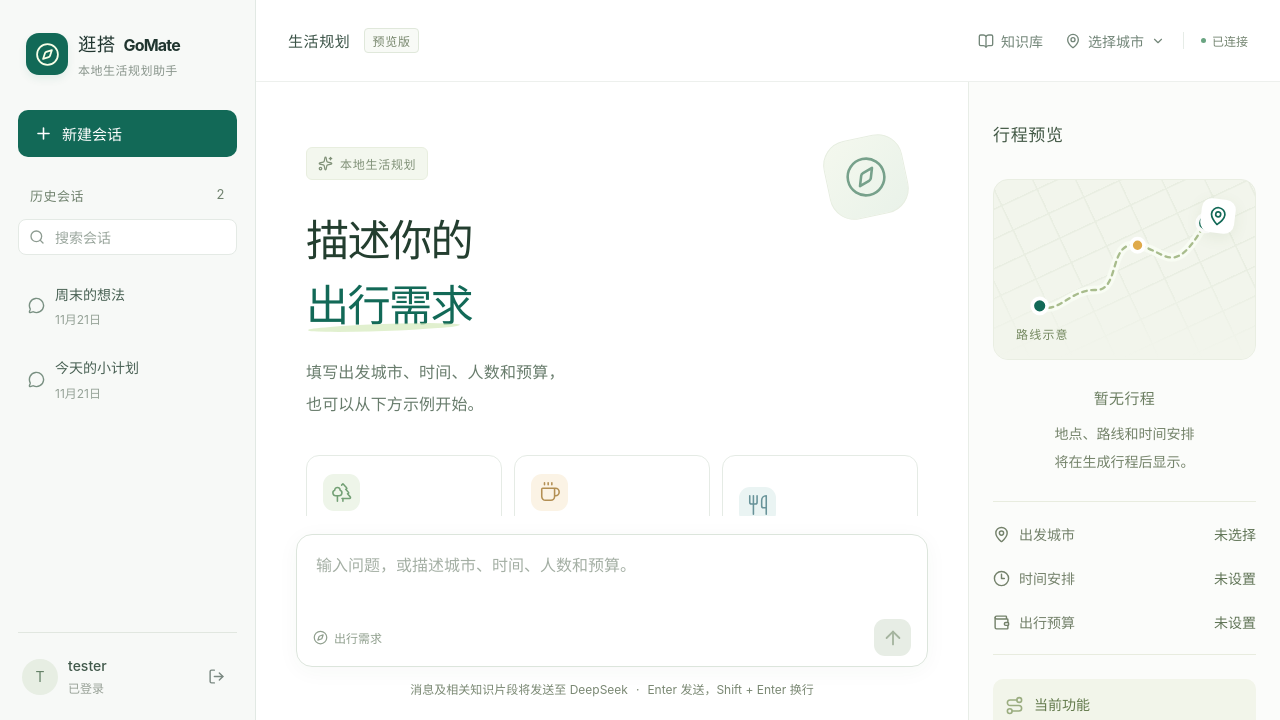
Scenario: GoMate workspace › does not display a late response from the previous conversation
Click the button with aria-label "打开会话：周末的想法": [114, 306] box 21,273 -> 208,338
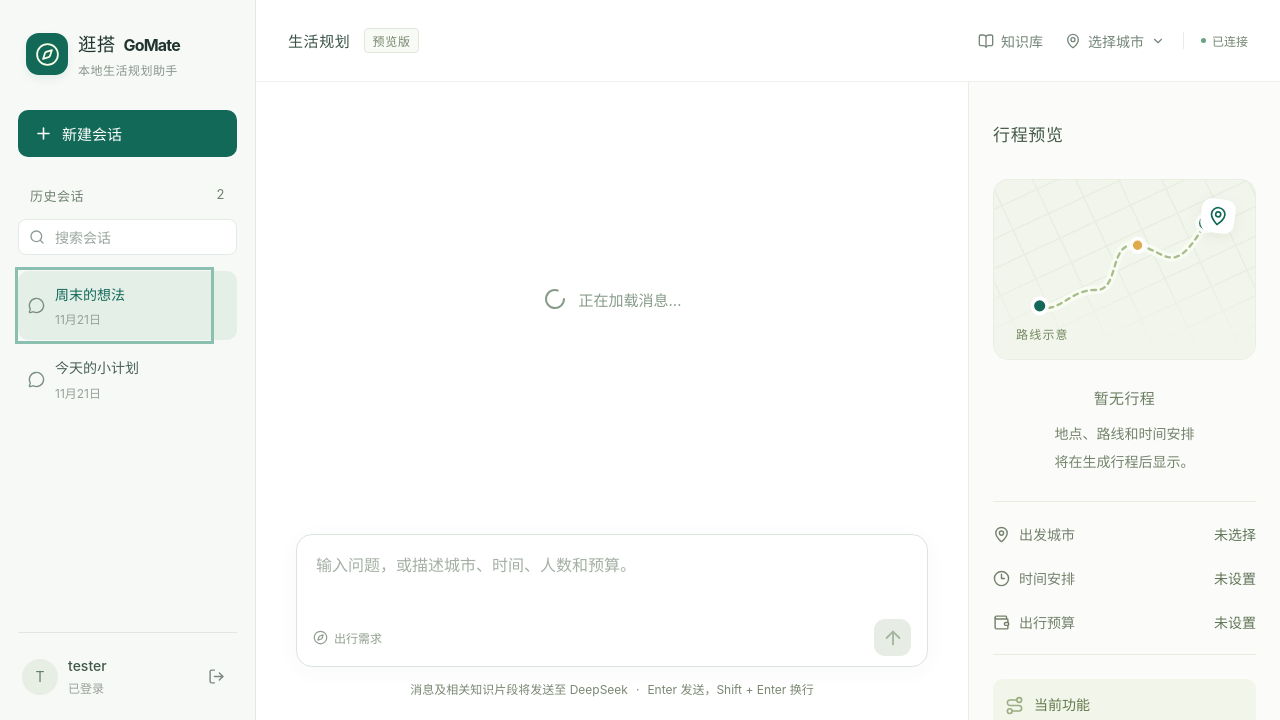
Click the button with aria-label "打开会话：今天的小计划": [114, 379] box 21,346 -> 208,412
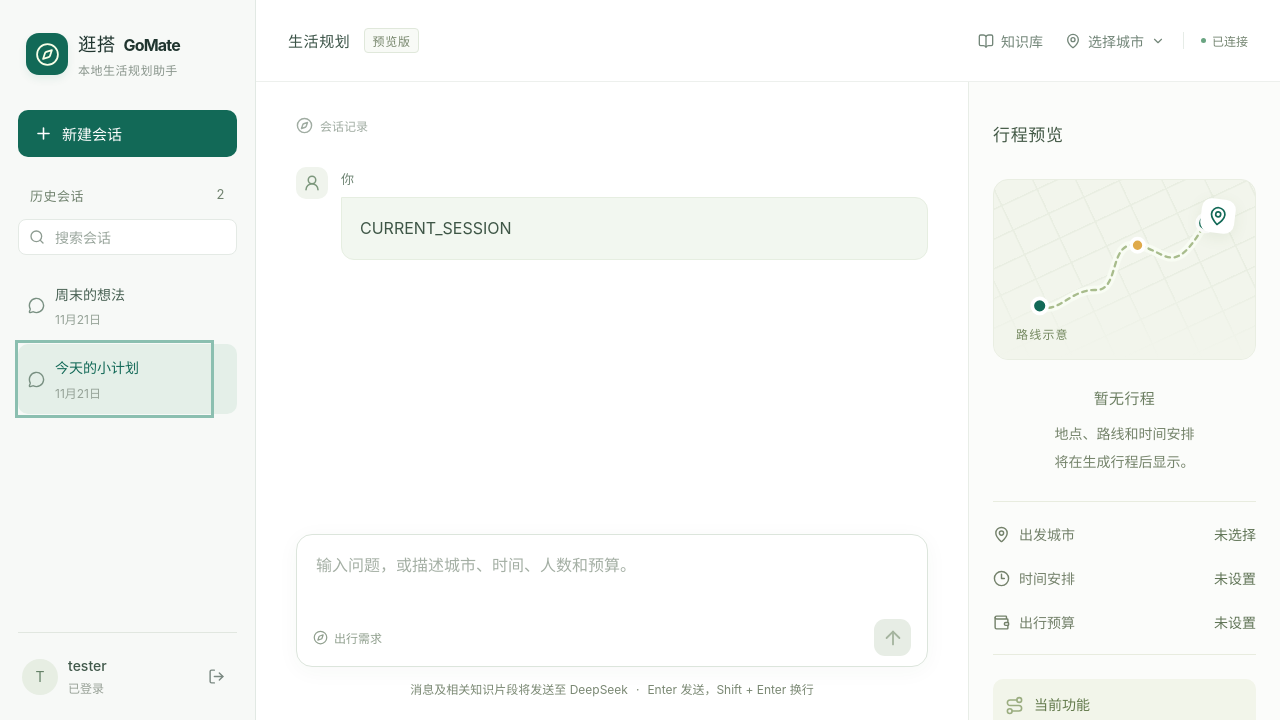
Expected: the text "CURRENT_SESSION" is shown, 341,197 -> 928,260
